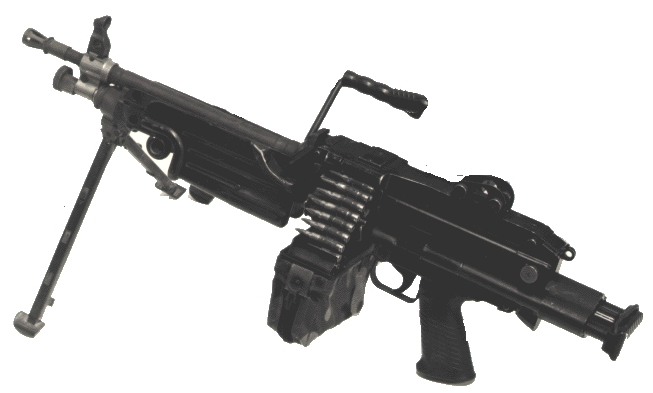rifle: (6, 30, 640, 379)
